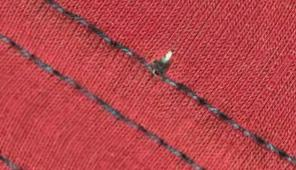hole: (156, 49, 179, 70)
